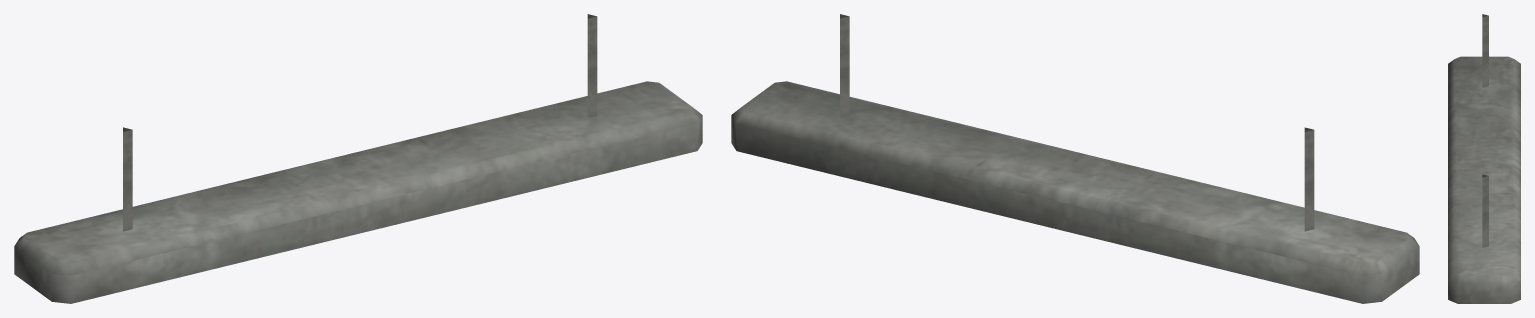
Rendered from shoplight.glb.
3 renders of one model, left to right at view 1: azimuth 30°, elevation 25°; view 2: azimuth 150°, elevation 25°; view 3: azimuth 270°, elevation 25°, orthographic. The views are drawn at different scales.
Parts seen in each view (by area): view 1: Lights_13; view 2: Lights_13; view 3: Lights_13.
Part boxes in pixels (box(x1,y1,x2,y2)): Lights_13: box(14, 14, 702, 303); Lights_13: box(731, 14, 1419, 303); Lights_13: box(1448, 14, 1520, 303).
Bounding box in the file's own units: 2.58 × 0.5132 × 0.3539.
2 materials, 2 textured.
